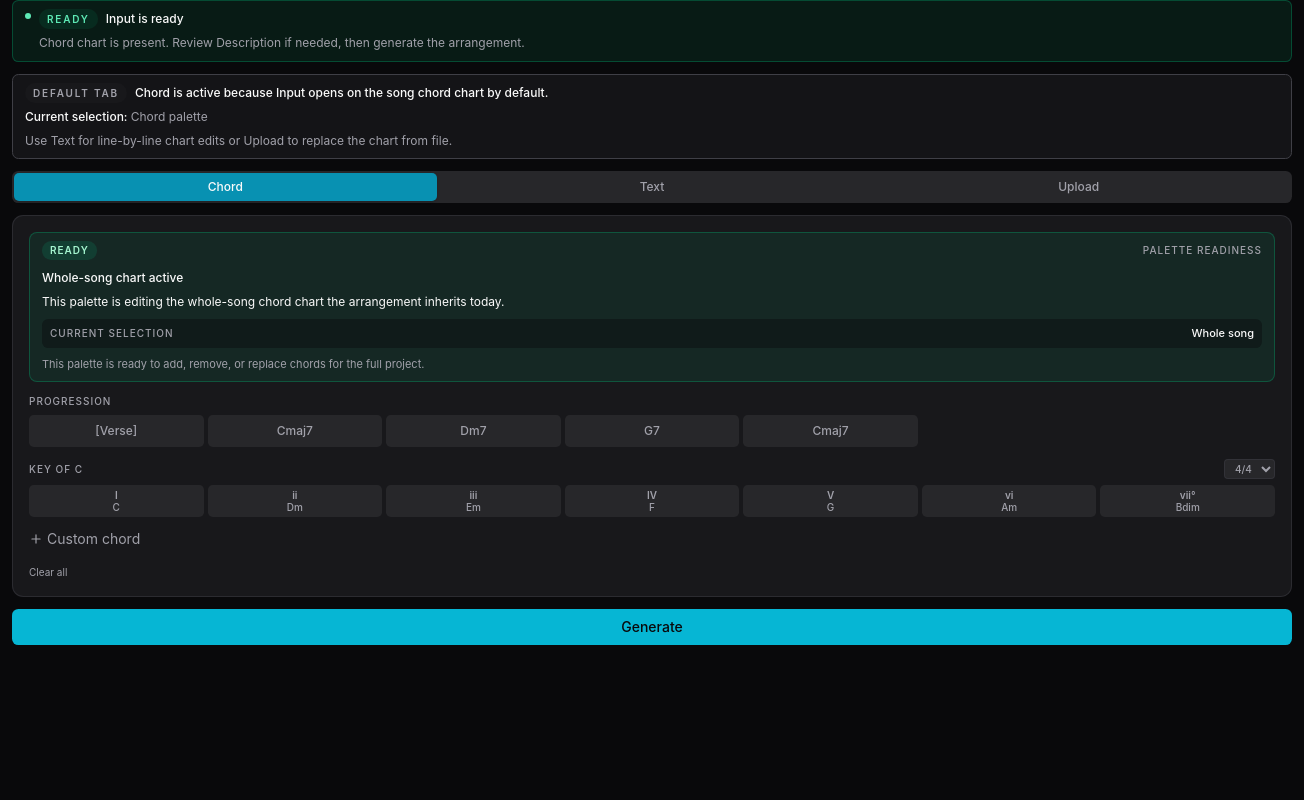
Scenario: InputSection upload tab › keeps whole-song input defaults explicit on the text tab
This screenshot has width=1304, height=800.
Click the button "Text" at coordinates (652, 187), box [441,173,863,201]
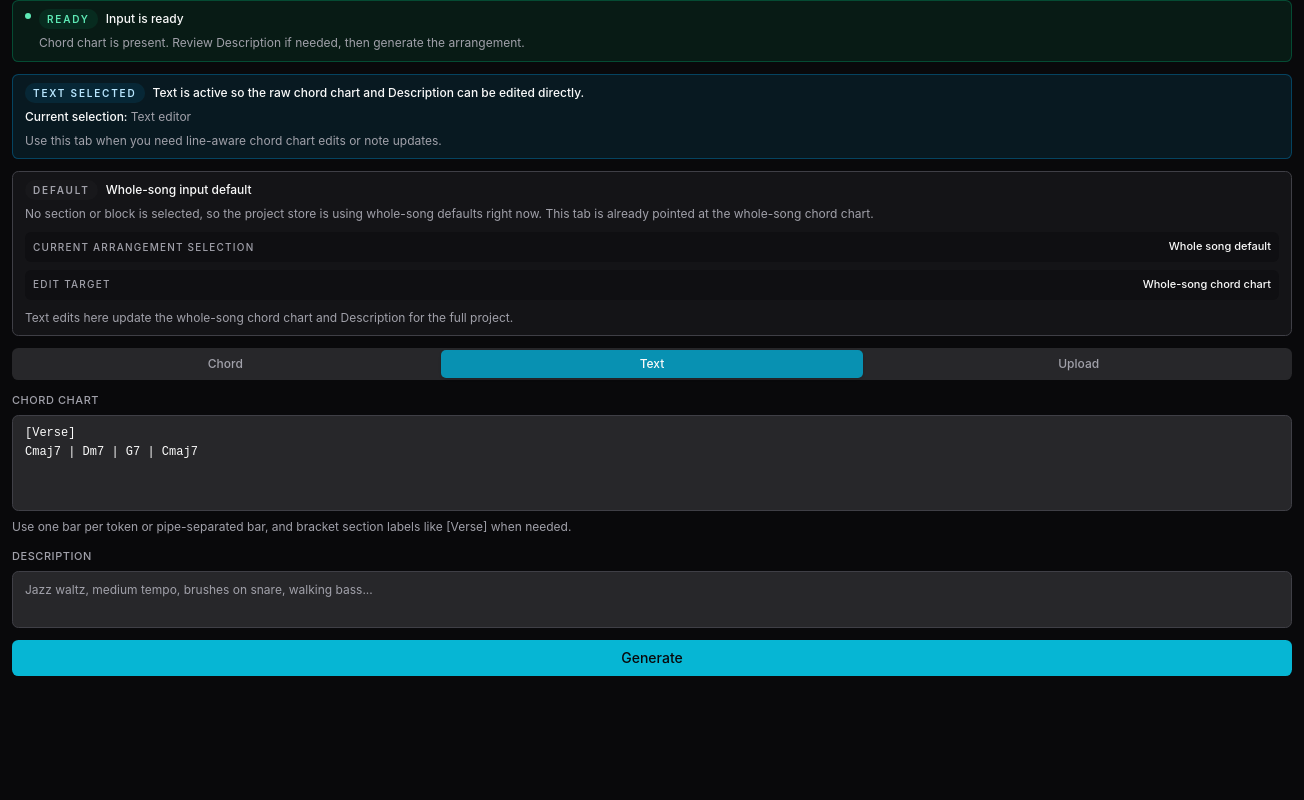
Now the element that starts with "Default" shows "Whole-song input default", box [106,182,252,197]
Now the element that starts with "Default" shows "No section or block is selected, so the project store is using whole-song defaults right now.", box [25,206,874,221]
Now the element that starts with "Default" shows "Current arrangement selection", box [33,241,254,253]
